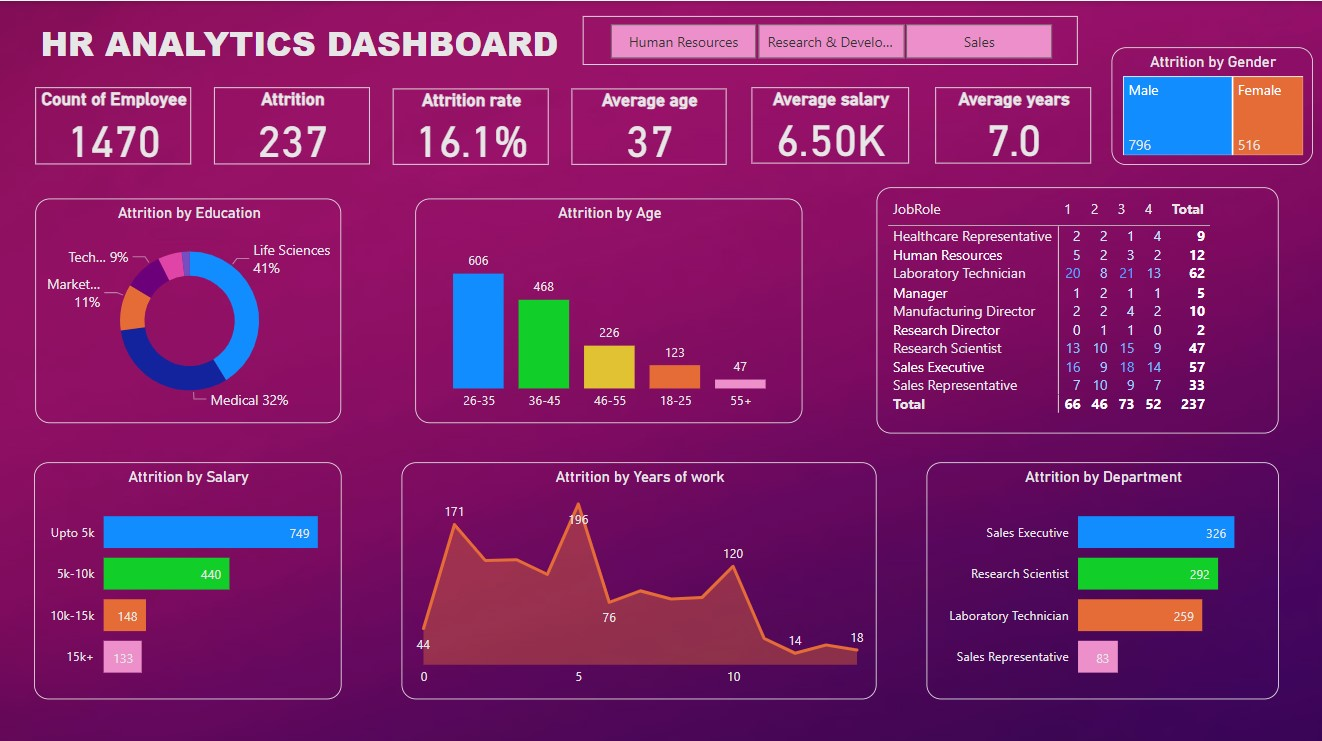

This screenshot's page, from the dashboard's own definition file:
{"tool":"powerbi","page":{"name":"Page 1","canvas":[1280,720],"ordinal":0},"visuals":[{"type":"card","title":"Count of Employee","fields":{"Values":["CountNonNull(HR_Analytics.EmpID)"]},"box":[35,83.2,150.8,74.8],"z":0},{"type":"card","title":"Attrition","fields":{"Values":["Sum(HR_Analytics.AttritionCount)"]},"box":[207.4,83.2,150.8,74.8],"z":1000},{"type":"card","title":"Attrition rate","fields":{"Values":["HR_Analytics.AttritionRate"]},"box":[379.9,84.4,150.8,73.6],"z":2000},{"type":"card","title":"Average age","fields":{"Values":["Avg(HR_Analytics.Age)"]},"box":[552.4,84.4,149.5,73.6],"z":3000},{"type":"card","title":"Average salary","fields":{"Values":["Avg(HR_Analytics.MonthlyIncome)"]},"box":[726,83.2,152,73.6],"z":4000},{"type":"card","title":"Average years","fields":{"Values":["Avg(HR_Analytics.YearsAtCompany)"]},"box":[903.3,83.2,150.8,73.6],"z":5000},{"type":"donutChart","title":"Attrition by Education","fields":{"Category":["HR_Analytics.EducationField"],"Y":["CountNonNull(HR_Analytics.Attrition)"]},"box":[35,190.6,295.5,217.1],"z":6000},{"type":"columnChart","title":"Attrition by Age","fields":{"Category":["HR_Analytics.AgeGroup"],"Y":["CountNonNull(HR_Analytics.Attrition)"]},"box":[401.6,190.6,373.9,217.1],"z":7000},{"type":"pivotTable","fields":{"Rows":["HR_Analytics.JobRole"],"Columns":["HR_Analytics.JobSatisfaction"],"Values":["Sum(HR_Analytics.AttritionCount)"]},"box":[846.6,179.7,388.3,237.6],"z":8000},{"type":"barChart","title":"Attrition by Salary","fields":{"Category":["HR_Analytics.SalarySlab"],"Y":["CountNonNull(HR_Analytics.Attrition)"]},"box":[33.8,445,296.7,229.1],"z":9000},{"type":"barChart","title":"Attrition by Department","fields":{"Category":["HR_Analytics.JobRole"],"Y":["CountNonNull(HR_Analytics.Attrition)"]},"box":[894.9,445,340.1,229.1],"z":10000},{"type":"areaChart","title":"Attrition by Years of work","fields":{"Category":["HR_Analytics.YearsAtCompany"],"Y":["CountNonNull(HR_Analytics.Attrition)"]},"box":[388.3,445,458.3,229.1],"z":11000},{"type":"treemap","title":"Attrition by Gender","fields":{"Group":["HR_Analytics.Gender"],"Values":["CountNonNull(HR_Analytics.Attrition)"]},"box":[1073.4,44.6,194.2,113.4],"z":12000},{"type":"slicer","fields":{"Values":["HR_Analytics.Department"]},"box":[563.2,14.5,477.6,47],"z":13000},{"type":"textbox","box":[35,13.3,553.6,57.9],"z":14000}]}

Visuals, with their boxes in screenshot pixels (x1, y1, x2, y2), scaled from the page's 1280x720 canvas onto the 1322x741 screenshot:
"Count of Employee" card: <region>36, 86, 192, 163</region>
"Attrition" card: <region>214, 86, 370, 163</region>
"Attrition rate" card: <region>392, 87, 548, 163</region>
"Average age" card: <region>571, 87, 725, 163</region>
"Average salary" card: <region>750, 86, 907, 161</region>
"Average years" card: <region>933, 86, 1089, 161</region>
"Attrition by Education" donutChart: <region>36, 196, 341, 420</region>
"Attrition by Age" columnChart: <region>415, 196, 801, 420</region>
pivotTable - HR_Analytics.JobRole x HR_Analytics.JobSatisfaction: <region>874, 185, 1275, 429</region>
"Attrition by Salary" barChart: <region>35, 458, 341, 694</region>
"Attrition by Department" barChart: <region>924, 458, 1276, 694</region>
"Attrition by Years of work" areaChart: <region>401, 458, 874, 694</region>
"Attrition by Gender" treemap: <region>1109, 46, 1309, 163</region>
slicer - HR_Analytics.Department: <region>582, 15, 1075, 63</region>
textbox: <region>36, 14, 608, 73</region>
